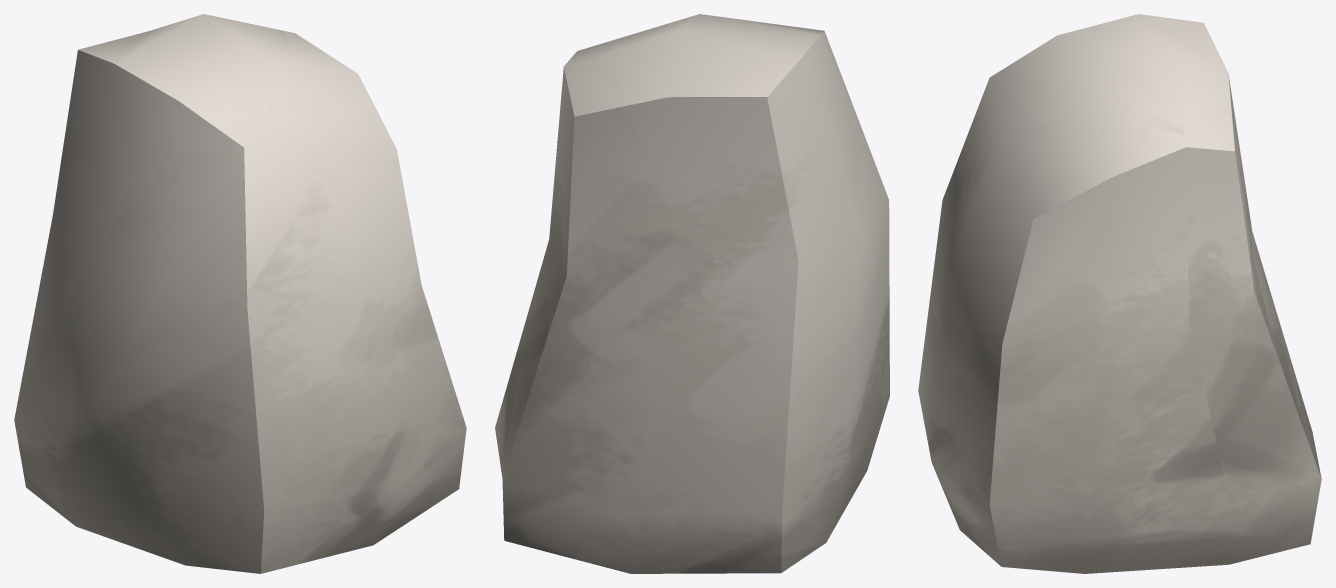
File: rock2.FBX
The picture shows the model from 3 angles, left to right: view 1: azimuth 30°, elevation 25°; view 2: azimuth 150°, elevation 25°; view 3: azimuth 270°, elevation 25°; orthographic projection. The views are drawn at different scales.
Visible parts, largest first — view 1: Box001; view 2: Box001; view 3: Box001.
Boxes of the visible parts, x1,y1,x2,y2 form: Box001: [14, 14, 466, 573]; Box001: [495, 14, 889, 573]; Box001: [918, 14, 1321, 573].
Size of the model in its own units: 36.35 by 39.55 by 52.85.
